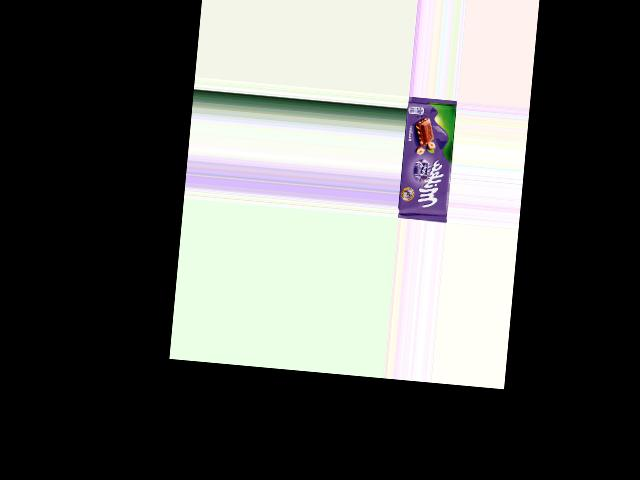chocolate: (396, 95, 457, 222)
